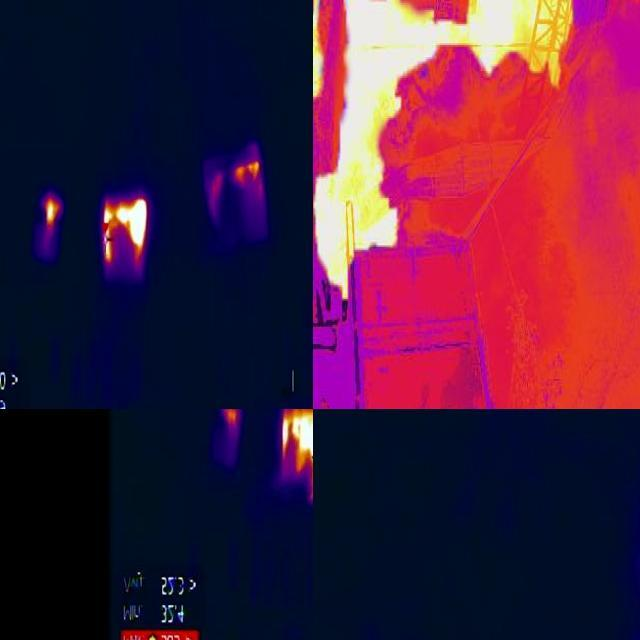fire: (311, 1, 452, 306), (460, 1, 577, 92), (102, 193, 149, 271), (282, 410, 314, 504), (45, 193, 63, 234), (223, 410, 241, 433)
